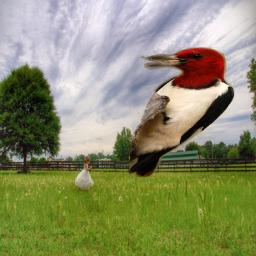Woodpecker: (129, 47, 235, 177)
